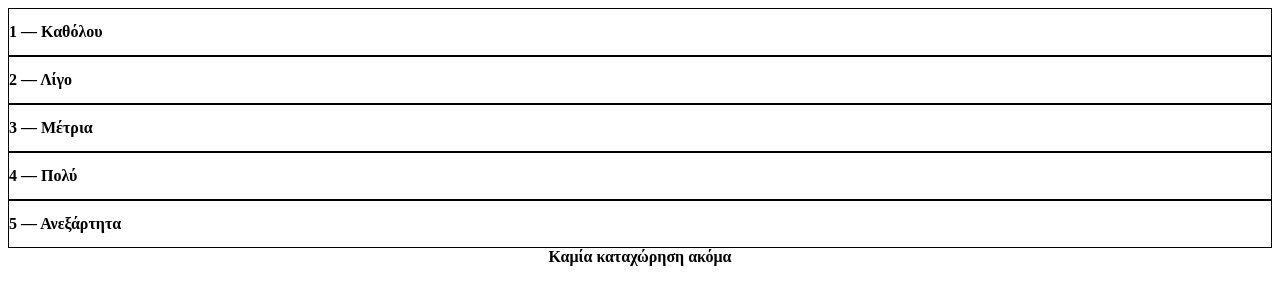
GoalRecorder — ratingScale (νέο, Στάδιο 8) › κάθετη λίστα 5 επιλογών με αριθμό+περιγραφή, επιλογή δείχνει το σωστό επίπεδο
This screenshot has width=1280, height=283.
Expected: the button "3 — Μέτρια" is shown, [8,104,1272,152]
Click the button "4 — Πολύ": point(59, 176) [8,152,1272,200]
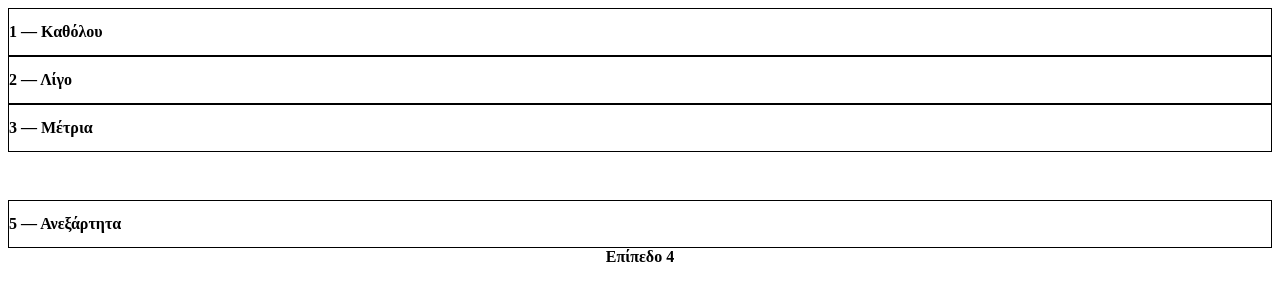
Expected: the text "Επίπεδο 4" is shown, [606,248,674,265]
